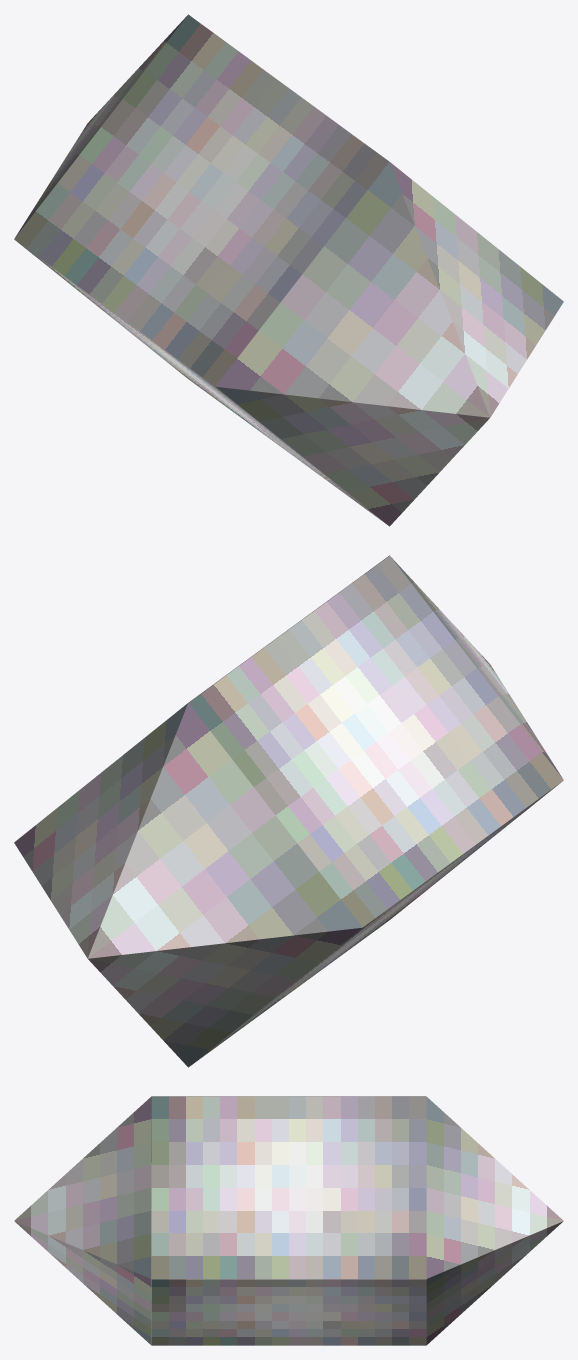
The model's file is vis_relay_crystal.obj.
The picture shows the model from 3 angles, top to bottom: view 1: azimuth 30°, elevation 25°; view 2: azimuth 150°, elevation 25°; view 3: azimuth 270°, elevation 25°; orthographic projection. The views are drawn at different scales.
Visible parts, largest first — view 1: Crystal; view 2: Crystal; view 3: Crystal.
Part boxes in pixels (x1,y1,x2,y2): Crystal: [14, 14, 563, 526]; Crystal: [14, 555, 563, 1067]; Crystal: [14, 1096, 563, 1345].
Bounding box in the file's own units: 0.25 × 0.25 × 0.5.
